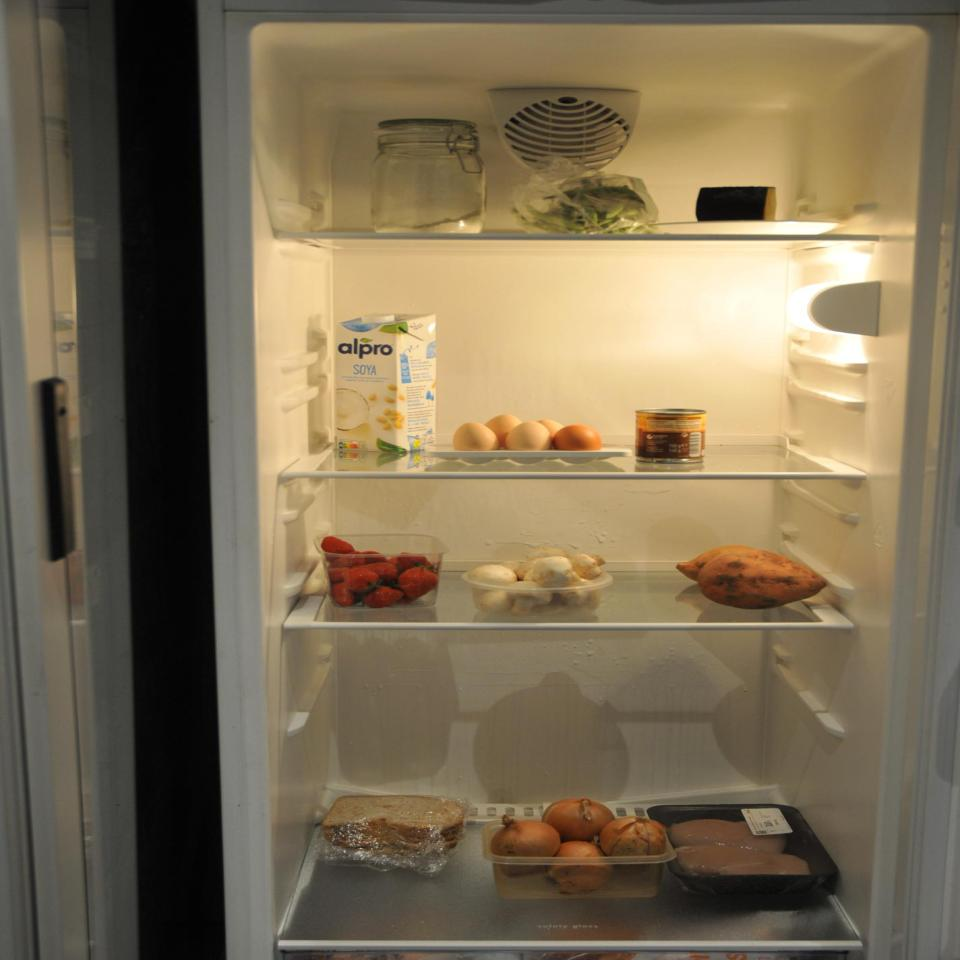Carne pollo: (664, 804, 832, 890)
Huevos: (448, 407, 616, 460)
Leche: (326, 309, 444, 469)
Queso: (688, 183, 784, 224)
